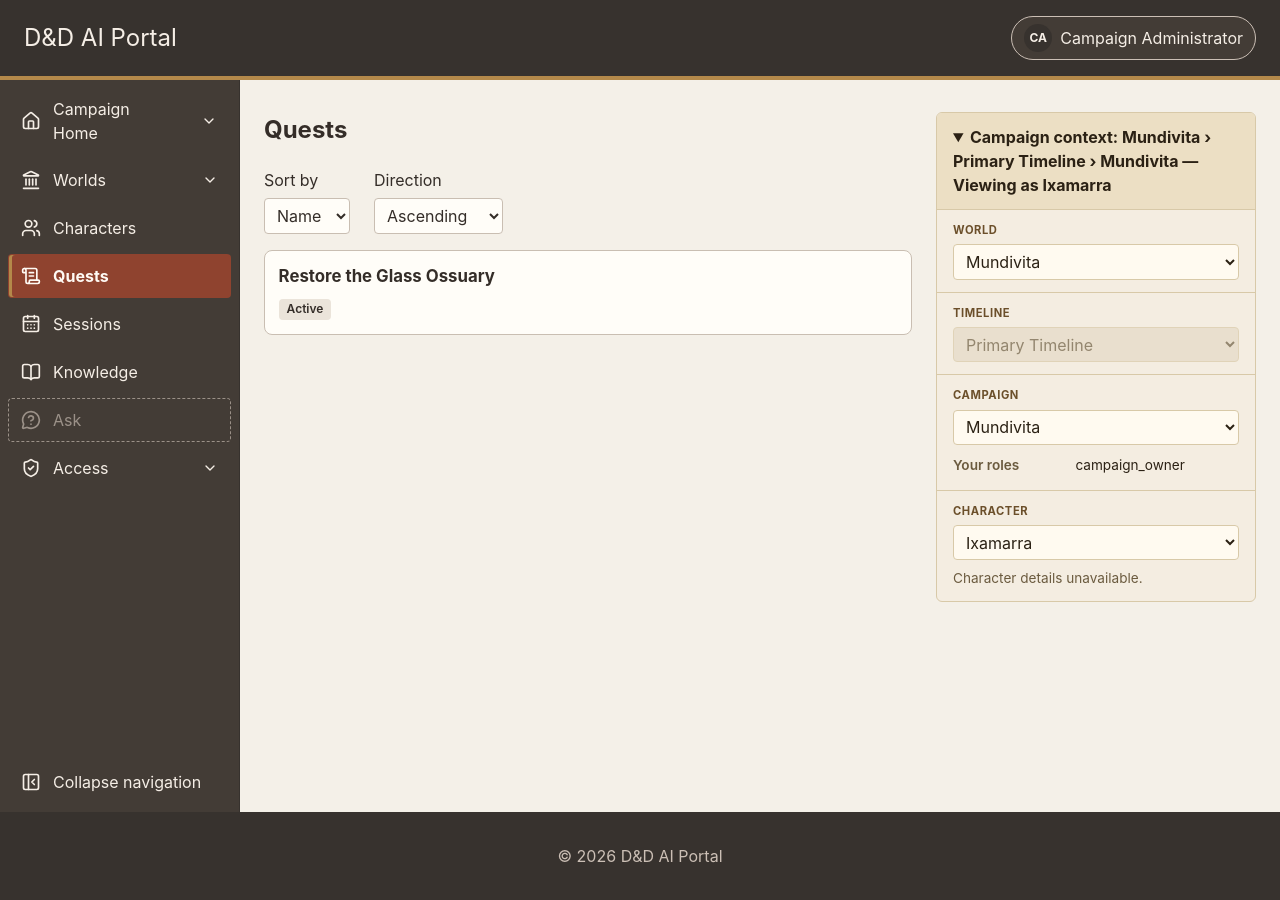
Test: portal routing › offers View all campaigns beneath Campaign Home as a path back from a campaign route
The width and height of the screenshot is (1280, 900).
Click the button named "Choose campaign" at point(209, 121), box [187,88,231,154]
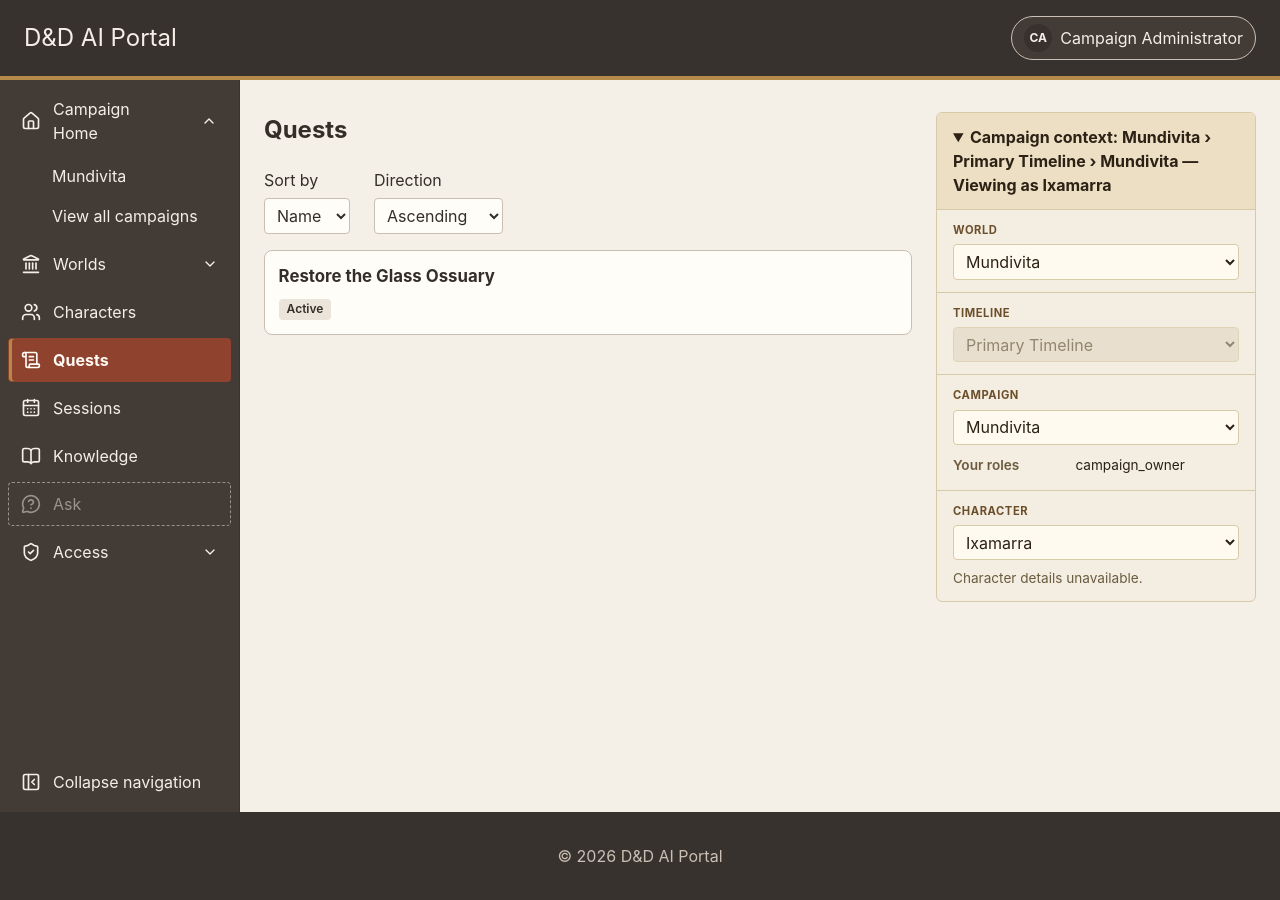
Click the link "View all campaigns" at point(125, 216), box [52,206,198,226]
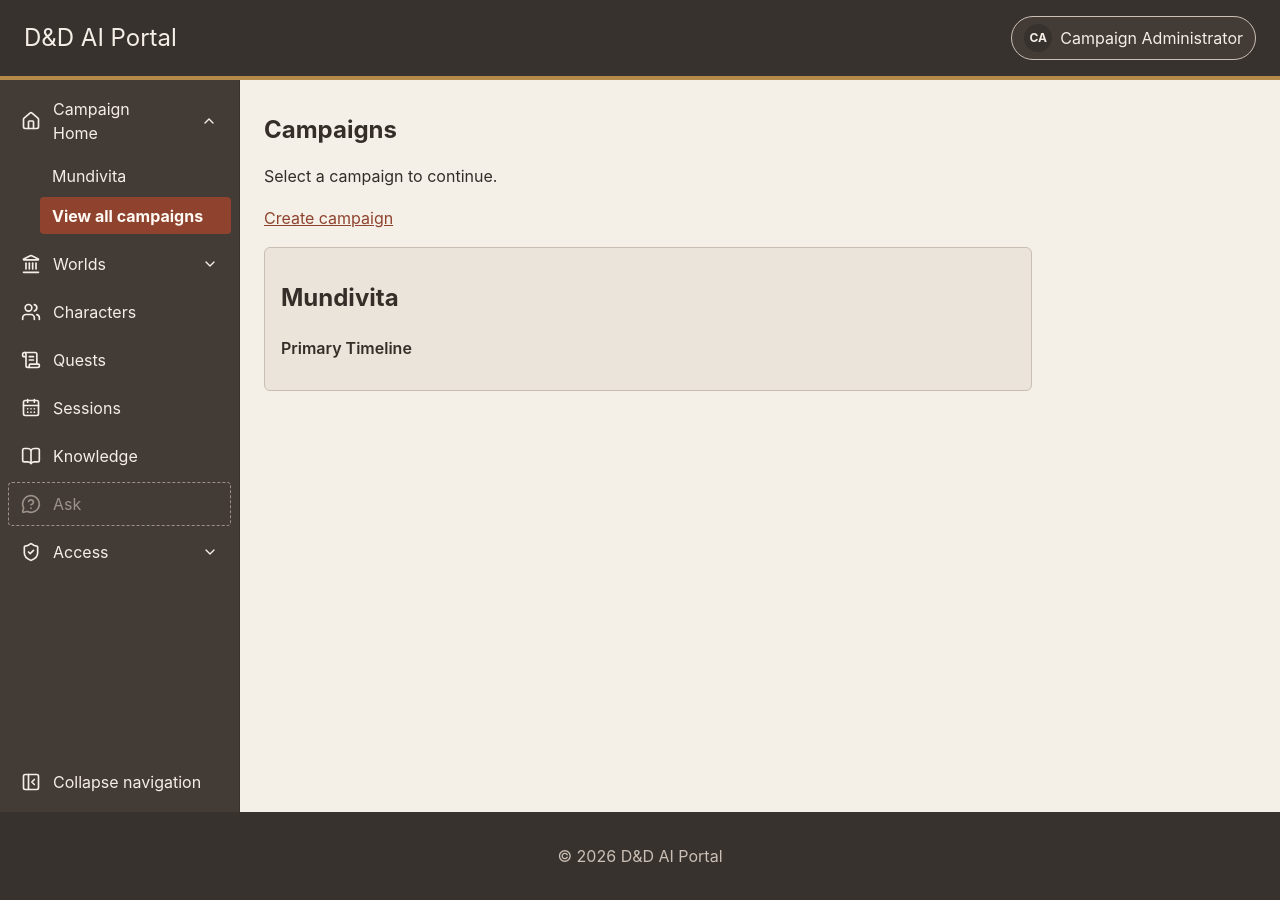
Check: the heading "Campaigns" is shown, box [264,115,397,144]
